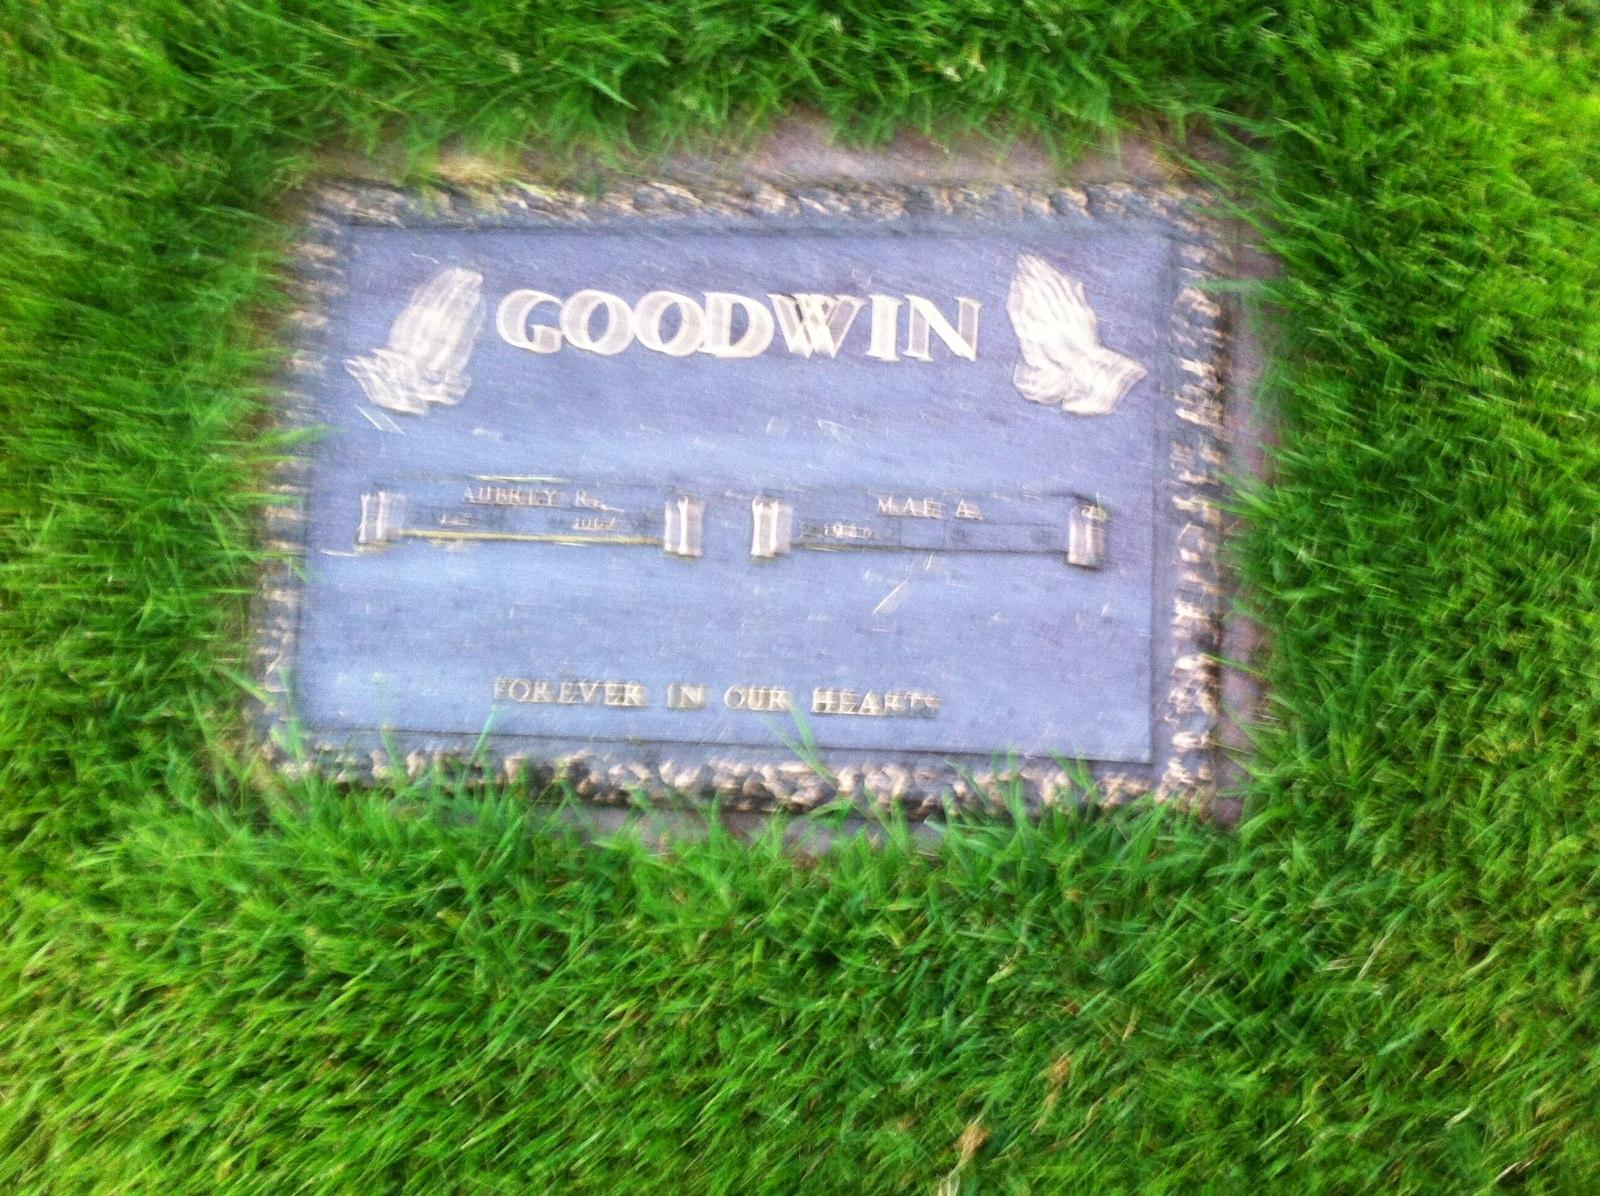flat: (242, 148, 1246, 822)
